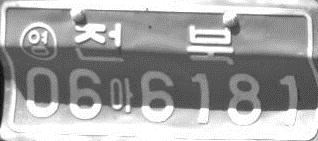0: (24, 66, 61, 119)
1: (185, 72, 221, 124), (274, 74, 309, 126)
6: (139, 69, 175, 123), (68, 67, 102, 120)
8: (226, 73, 262, 125)
아: (108, 76, 134, 113)
영: (19, 19, 58, 61)
전북_D: (72, 22, 237, 66)
